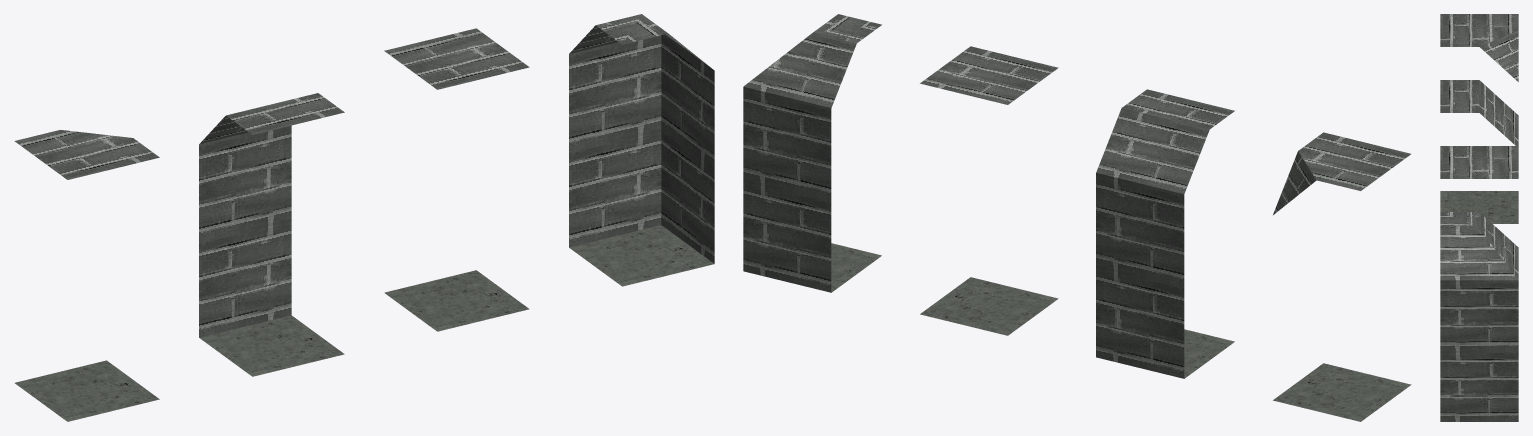
The model's file is brickwalls.glb.
3 renders of one model, left to right at view 1: azimuth 30°, elevation 25°; view 2: azimuth 150°, elevation 25°; view 3: azimuth 270°, elevation 25°, orthographic. The views are drawn at different scales.
Parts seen in each view (by area): view 1: brickinnercorner-col, brickwall-col, brickfloorroof-col, brickoutercorner.col; view 2: brickwall-col, brickinnercorner-col, brickoutercorner.col, brickfloorroof-col; view 3: brickinnercorner-col, brickoutercorner.col, brickwall-col, brickfloorroof-col.
Part boxes in pixels (box(x1,y1,x2,y2)): brickinnercorner-col: box(569, 14, 714, 286); brickwall-col: box(199, 93, 344, 376); brickfloorroof-col: box(384, 28, 529, 331); brickoutercorner.col: box(14, 130, 159, 421); brickwall-col: box(1096, 89, 1234, 378); brickinnercorner-col: box(743, 14, 881, 292); brickoutercorner.col: box(1273, 132, 1411, 421); brickfloorroof-col: box(920, 46, 1058, 335); brickinnercorner-col: box(1440, 212, 1518, 421); brickoutercorner.col: box(1440, 14, 1518, 223); brickwall-col: box(1440, 80, 1518, 145); brickfloorroof-col: box(1440, 146, 1518, 178).
Size of the model in its own units: 7 by 2.5 by 1.
Materials: 1 (1 with a texture image).
